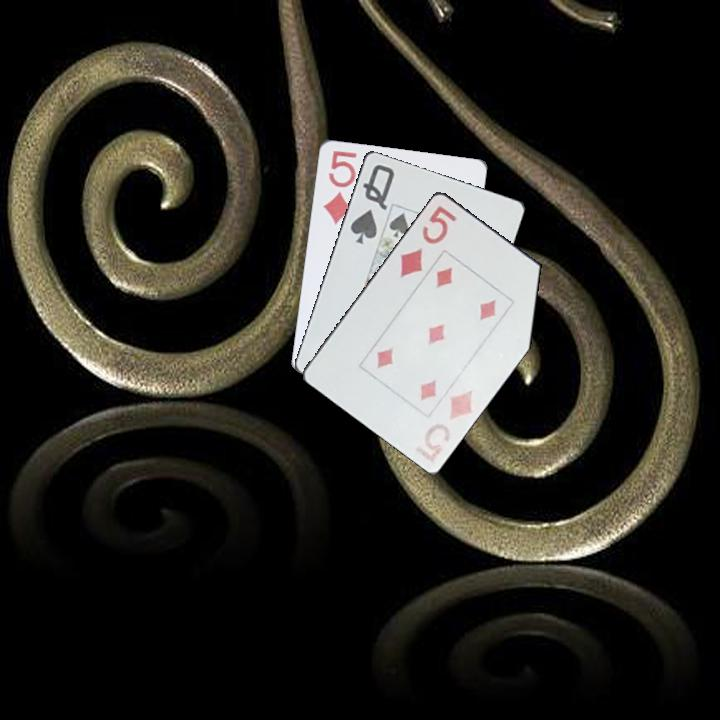5d: (396, 201, 459, 280), (420, 386, 475, 455), (319, 146, 359, 227)
Qs: (346, 160, 397, 247)
